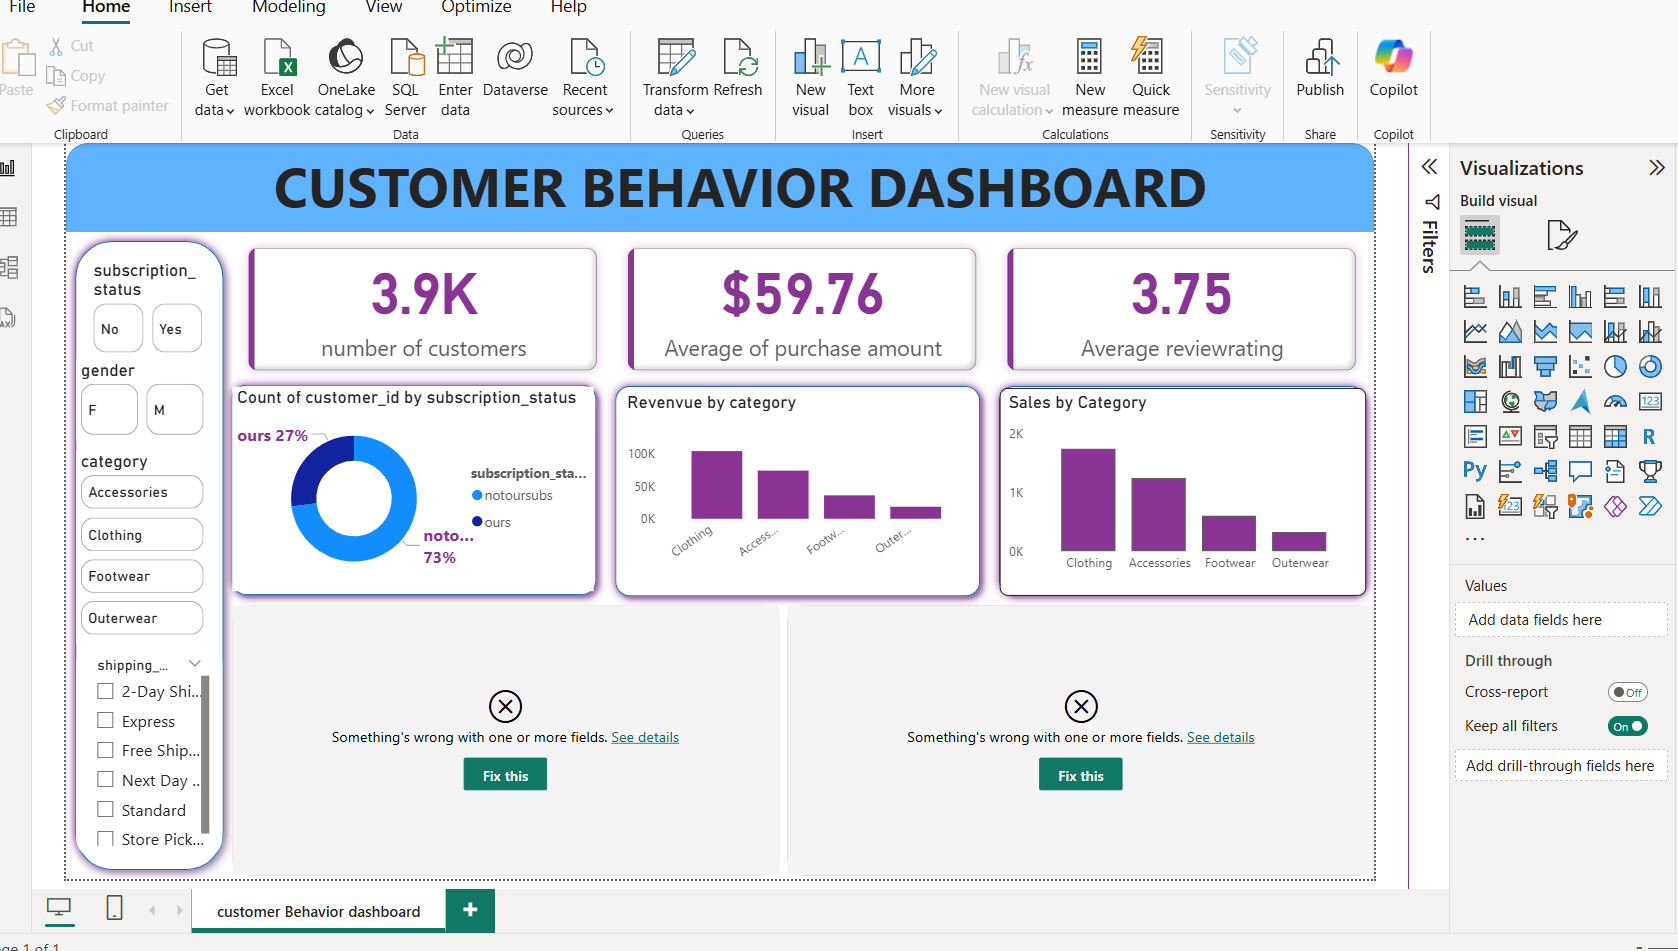

The page's visual inventory and layout, read from the dashboard file:
{"tool":"powerbi","page":{"name":"customer Behavior dashboard","canvas":[1280,720],"ordinal":0},"visuals":[{"type":"cardVisual","fields":{"Data":["customer.number of customers","customer.Average of purchase amount","customer.Average reviewrating"]},"box":[163.1,86.9,1116.7,152.4],"z":0},{"type":"shape","box":[0,0,1279.8,86.9],"z":1000},{"type":"textbox","box":[0,0,1279.8,86.9],"z":2000},{"type":"shape","box":[152.4,227.4,375,223.8],"z":3000},{"type":"donutChart","fields":{"Y":["CountNonNull(customer.customer_id)"],"Category":["customer.subscription_status"]},"box":[163.1,238.1,353.6,200],"z":4000},{"type":"shape","box":[528.6,228.6,375,223.8],"z":5000},{"type":"shape","box":[903.6,228.6,376.2,222.6],"z":6000},{"type":"clusteredColumnChart","title":"Sales by Category","fields":{"Y":["CountNonNull(customer.customer_id)"],"Category":["customer.category"]},"box":[913.1,239.3,358.3,203.6],"z":7000},{"type":"clusteredColumnChart","title":"Revenvue by category","fields":{"Category":["customer.category"],"Y":["Sum(customer.purchase_amount_usd)"]},"box":[544,242.9,345.2,195.2],"z":8000},{"type":"shape","box":[0,86.9,163.1,633.3],"z":9000},{"type":"advancedSlicerVisual","fields":{"Values":["customer (4).subscription_status"]},"box":[22.6,114.3,117.9,96.4],"z":10000},{"type":"advancedSlicerVisual","fields":{"Values":["customer (4).gender"]},"box":[10,211.2,130,80],"z":11000},{"type":"advancedSlicerVisual","fields":{"Values":["customer.category"]},"box":[10,301.2,130,188.8],"z":12000},{"type":"slicer","fields":{"Values":["customer.shipping_type"]},"box":[9.8,489.1,143.1,211.6],"z":13000},{"type":"clusteredBarChart","title":"Revenue by Age Group","fields":{"Y":["Sum(customer.purchase_amount_usd)"],"Category":["customer (2).Age_Group"]},"box":[162.6,452.4,534.4,264.1],"z":14000},{"type":"clusteredBarChart","title":"Sales by Agegroup","fields":{"Category":["customer (2).Age_Group"],"Y":["CountNonNull(customer (2).customer_id)"]},"box":[705.6,452.4,574.7,264.1],"z":15000}]}

Visuals, with their boxes on the page's 1280x720 design canvas (x1, y1, x2, y2). These are canvas units, not pixel positions in the 1678x951 screenshot, which may show the page scaled, cropped or inside an application window:
cardVisual - customer.number of customers x customer.Average of purchase amount: 163/87/1280/239
shape: 0/0/1280/87
textbox: 0/0/1280/87
shape: 152/227/527/451
donutChart - CountNonNull(customer.customer_id) x customer.subscription_status: 163/238/517/438
shape: 529/229/904/452
shape: 904/229/1280/451
"Sales by Category" clusteredColumnChart: 913/239/1271/443
"Revenvue by category" clusteredColumnChart: 544/243/889/438
shape: 0/87/163/720
advancedSlicerVisual - customer (4).subscription_status: 23/114/140/211
advancedSlicerVisual - customer (4).gender: 10/211/140/291
advancedSlicerVisual - customer.category: 10/301/140/490
slicer - customer.shipping_type: 10/489/153/701
"Revenue by Age Group" clusteredBarChart: 163/452/697/716
"Sales by Agegroup" clusteredBarChart: 706/452/1280/716
